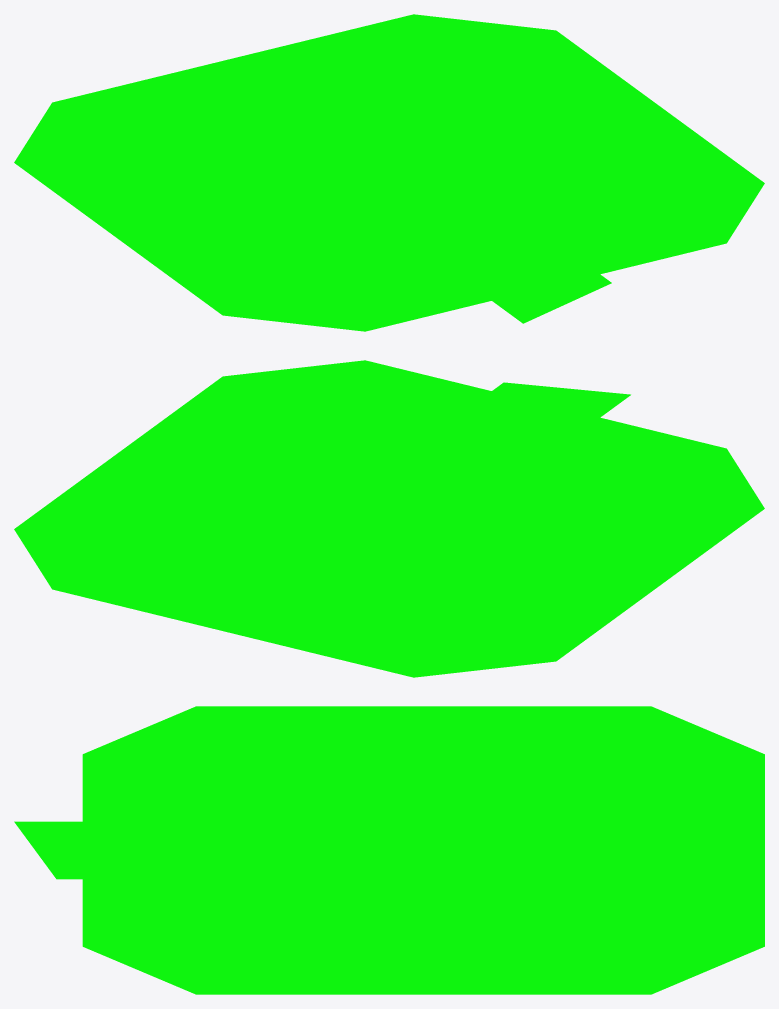
The model's file is s05z_na1-floor.glb.
3 views of the same model, one above another, from view 1: azimuth 30°, elevation 25°; view 2: azimuth 150°, elevation 25°; view 3: azimuth 270°, elevation 25° (orthographic). The views are drawn at different scales.
Visible parts, largest first — view 1: collision_floor-colonly; view 2: collision_floor-colonly; view 3: collision_floor-colonly.
Boxes of the visible parts, bbox=[...] form: collision_floor-colonly: bbox=[14, 14, 764, 331]; collision_floor-colonly: bbox=[14, 360, 764, 677]; collision_floor-colonly: bbox=[14, 706, 764, 994].
Bounding box in the file's own units: 30 × 0 × 33.01.
